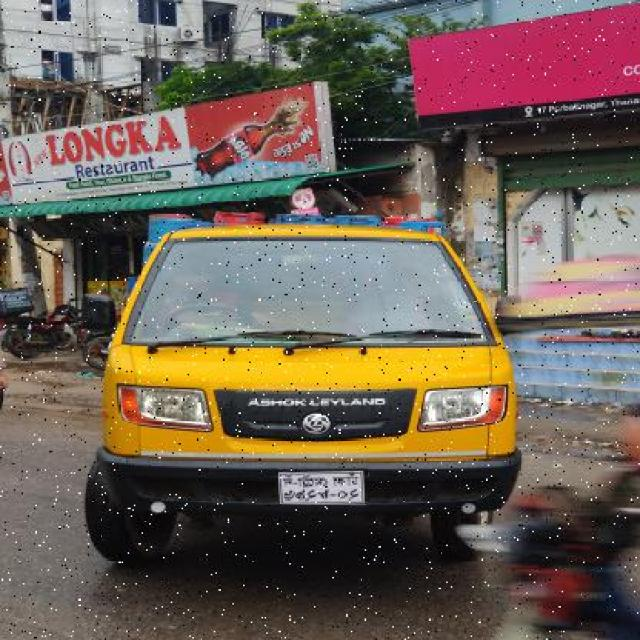numberplate: (278, 468, 368, 504)
